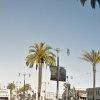Palm tree: (26, 32, 54, 97)
